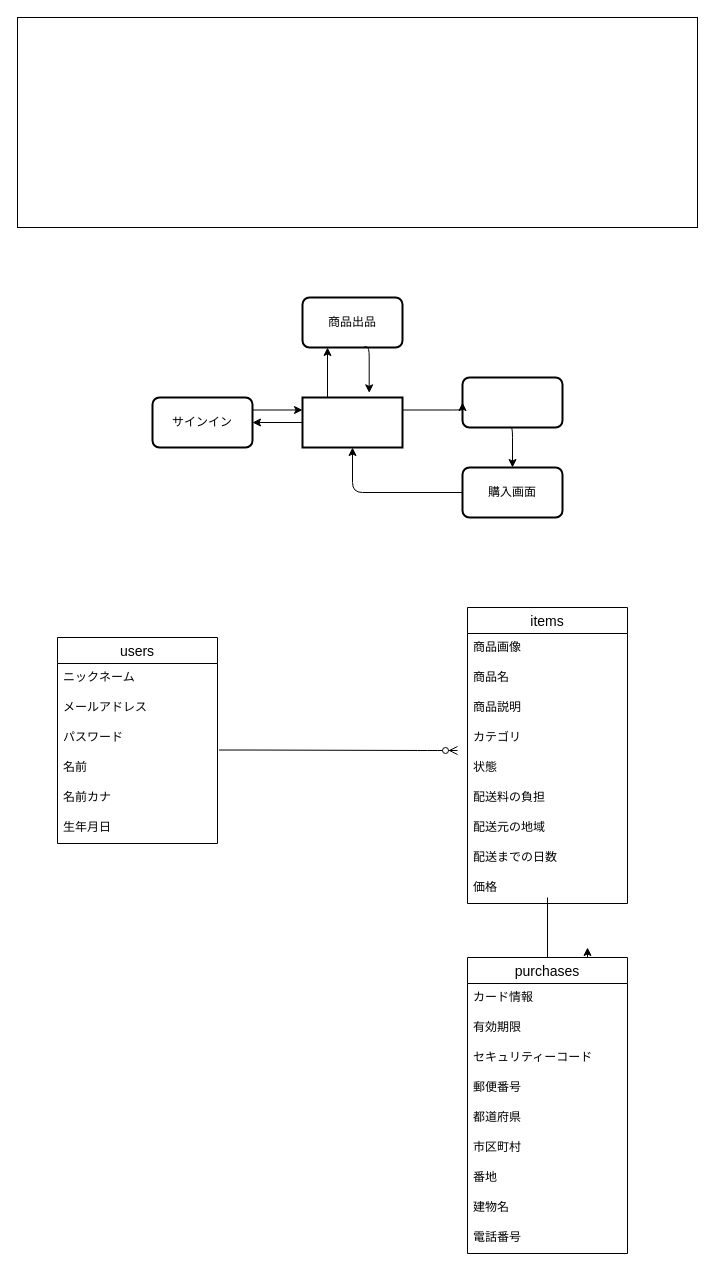
The diagram is 715 pixels wide and 1274 high, and some of its shapes have lost their labels. Each missing label, with the centre of its shape:
Furimaで必要な画面 サインイン/ログインページ トップページ 商品の詳細ページ 商品を出品するページ 商品情報の編集ページ 商品を購入するページ: [357,122]
トップページ: [352,422]
商品詳細: [512,402]
